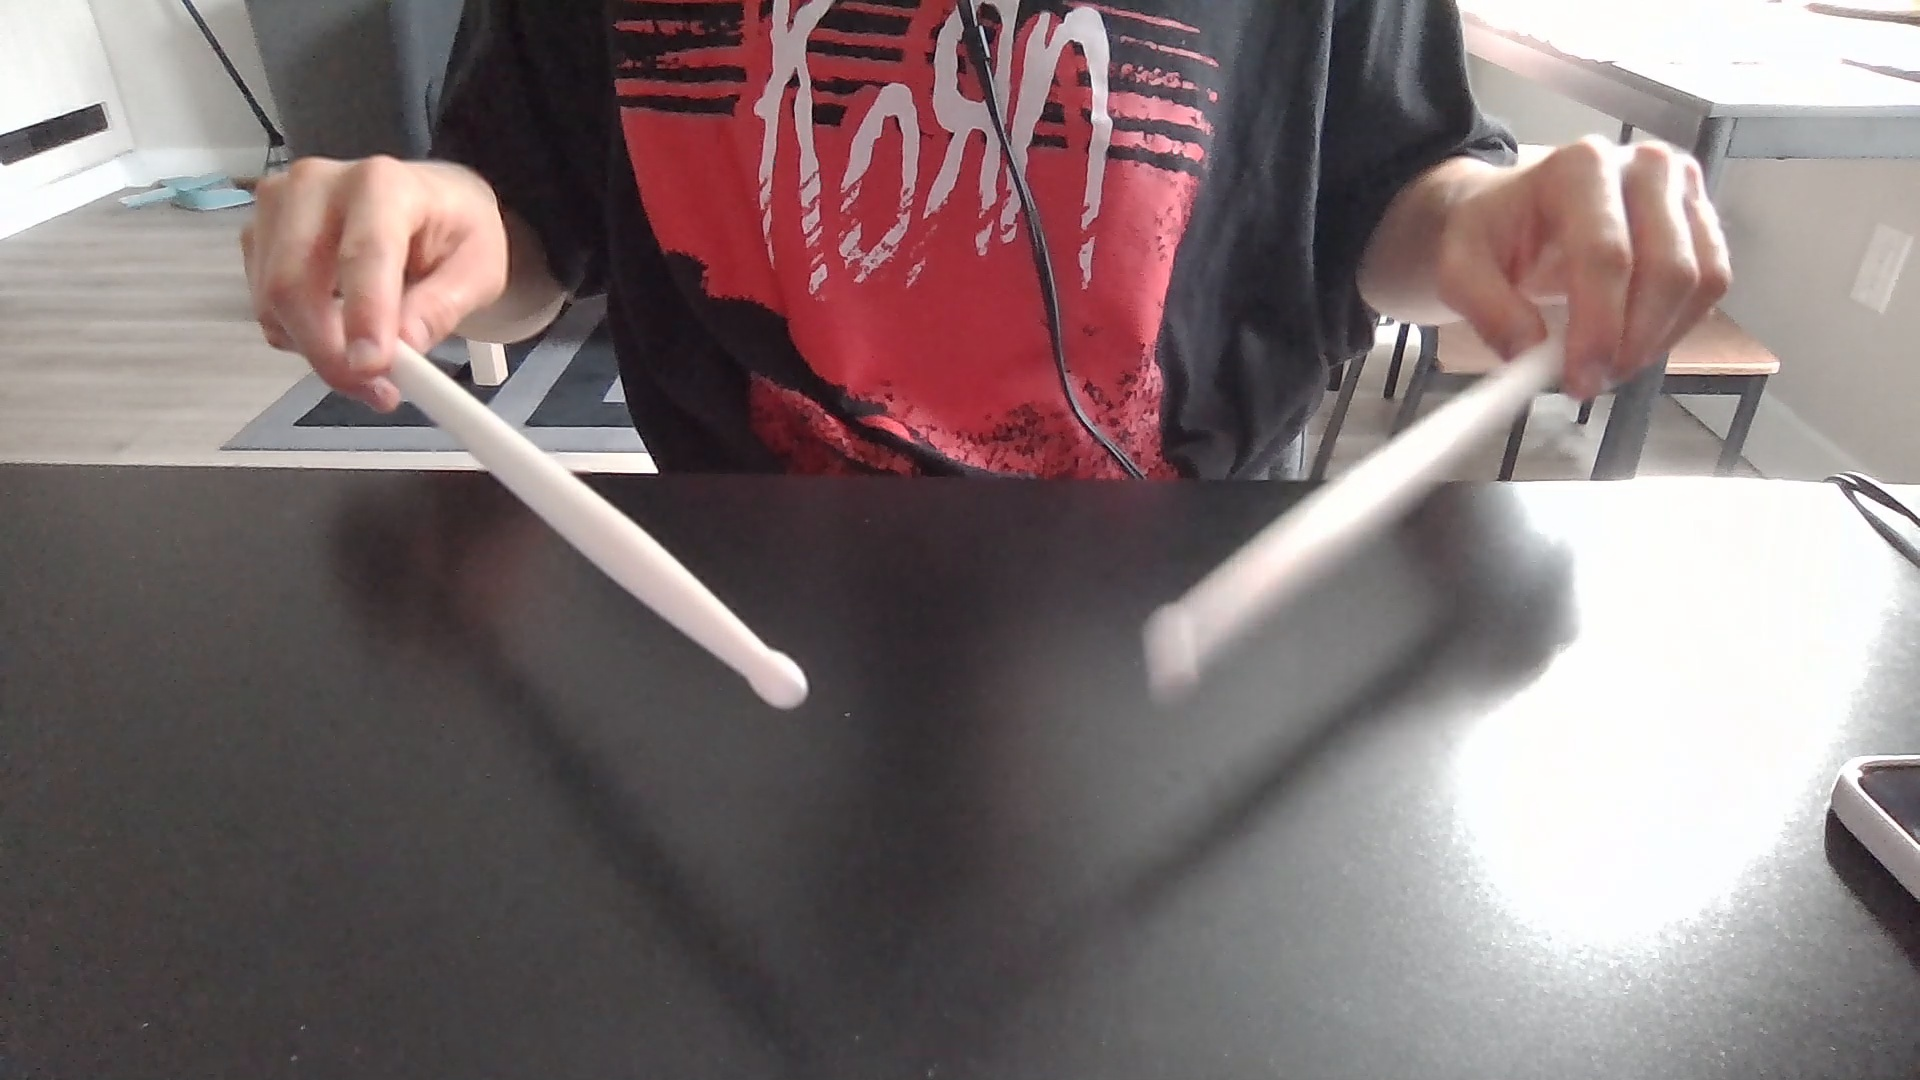left_stick: (729, 617, 825, 723)
right_stick: (1141, 575, 1226, 705)
